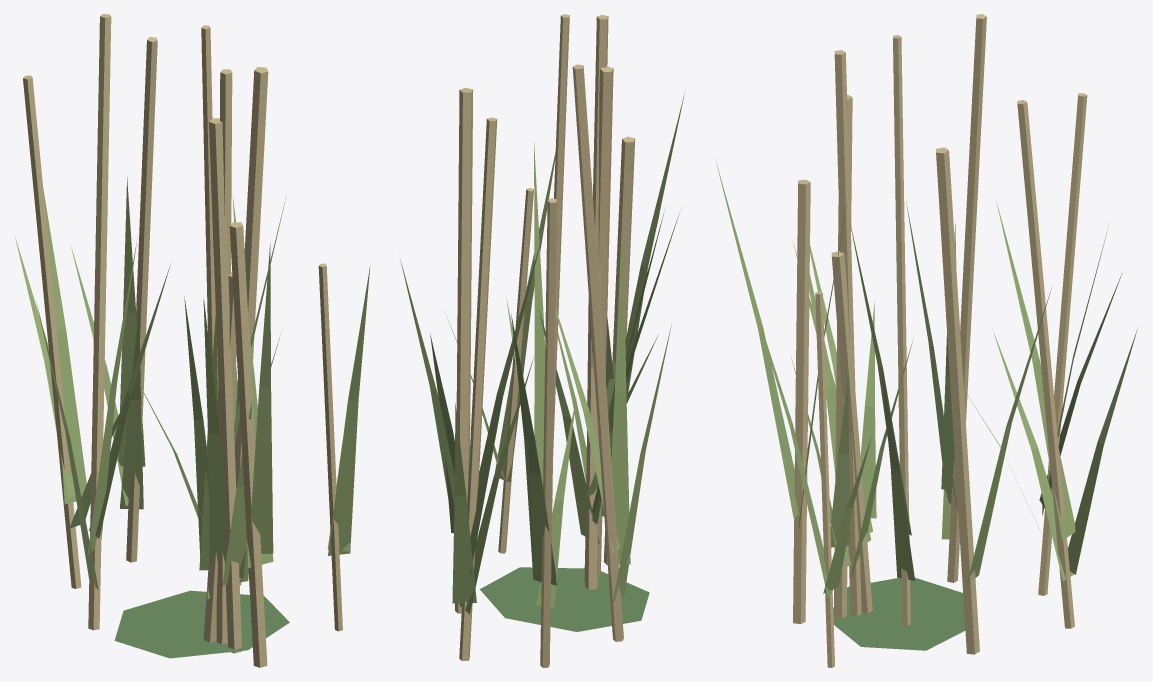
The model's file is edge_reeds_cluster_a.glb.
The picture shows the model from 3 angles, left to right: view 1: azimuth 30°, elevation 25°; view 2: azimuth 150°, elevation 25°; view 3: azimuth 270°, elevation 25°; orthographic projection. The views are drawn at different scales.
Visible parts, largest first — view 1: edge_reeds_cluster_a; view 2: edge_reeds_cluster_a; view 3: edge_reeds_cluster_a.
Boxes of the visible parts, x1,y1,x2,y2 form: edge_reeds_cluster_a: [15, 14, 370, 667]; edge_reeds_cluster_a: [400, 14, 685, 667]; edge_reeds_cluster_a: [715, 14, 1137, 667].
Bounding box in the file's own units: 0.4595 × 0.9435 × 0.6215.
